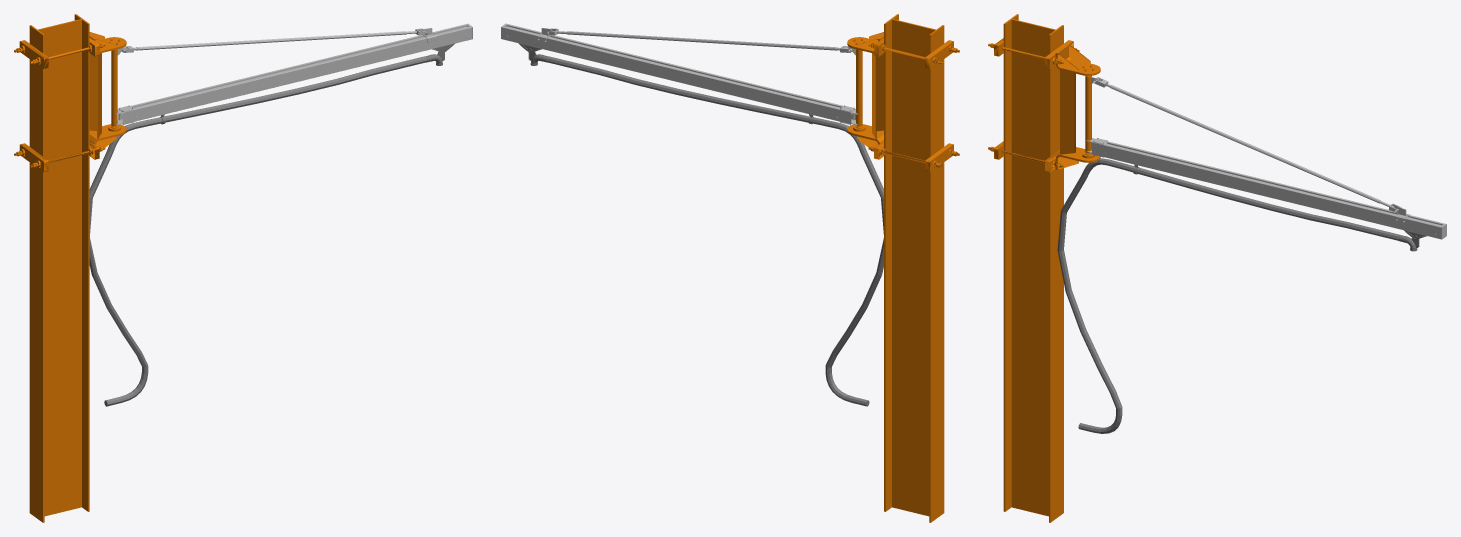
The model's file is aardwolf_all_part_WALL BRACED JIB CRANE 3M 125KG@p1_-200_0_0@p2_3284_0_3029.fbx.
The picture shows the model from 3 angles, left to right: view 1: azimuth 30°, elevation 25°; view 2: azimuth 150°, elevation 25°; view 3: azimuth 330°, elevation 25°; orthographic projection.
Visible parts, largest first — view 1: yellow, aardwolf_all_part_obj222, aardwolf_all_part_obj134, aardwolf_all_part_obj227; view 2: yellow, aardwolf_all_part_obj222, aardwolf_all_part_obj134, aardwolf_all_part_obj227; view 3: yellow, aardwolf_all_part_obj222, aardwolf_all_part_obj134, aardwolf_all_part_obj227.
Part boxes in pixels (<box>): yellow: <box>29,14,89,522</box>; aardwolf_all_part_obj222: <box>108,23,472,131</box>; aardwolf_all_part_obj134: <box>89,56,427,406</box>; aardwolf_all_part_obj227: <box>14,32,126,172</box>; yellow: <box>884,14,944,522</box>; aardwolf_all_part_obj222: <box>501,23,865,131</box>; aardwolf_all_part_obj134: <box>546,56,883,406</box>; aardwolf_all_part_obj227: <box>847,32,959,172</box>; yellow: <box>1003,14,1063,522</box>; aardwolf_all_part_obj222: <box>1082,65,1446,239</box>; aardwolf_all_part_obj134: <box>1057,158,1399,433</box>; aardwolf_all_part_obj227: <box>988,38,1100,172</box>.
Bounding box in the file's own units: 3845 × 4000 × 360.
